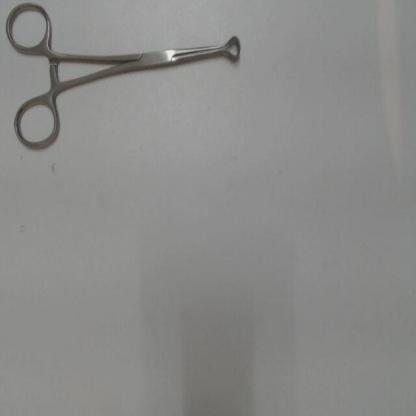Babcock Tissue Forceps: (4, 1, 246, 154)
